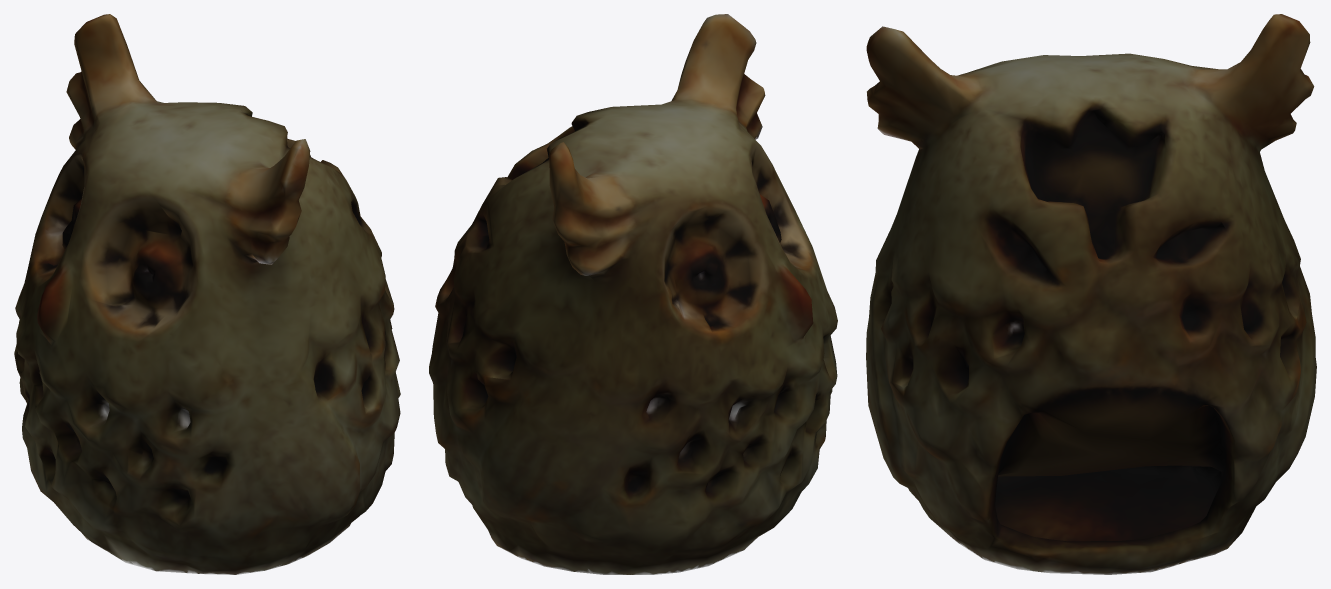
3 views of the same model, side by side, from view 1: azimuth 30°, elevation 25°; view 2: azimuth 150°, elevation 25°; view 3: azimuth 270°, elevation 25° (orthographic). The views are drawn at different scales.
Visible parts, largest first — view 1: low; view 2: low; view 3: low.
Part boxes in pixels (x1,y1,x2,y2): low: (14,14,400,574); low: (429,14,837,574); low: (866,14,1316,574).
Bounding box in the file's own units: 5.24 × 6.48 × 5.43.
Materials: 1 (1 with a texture image).
